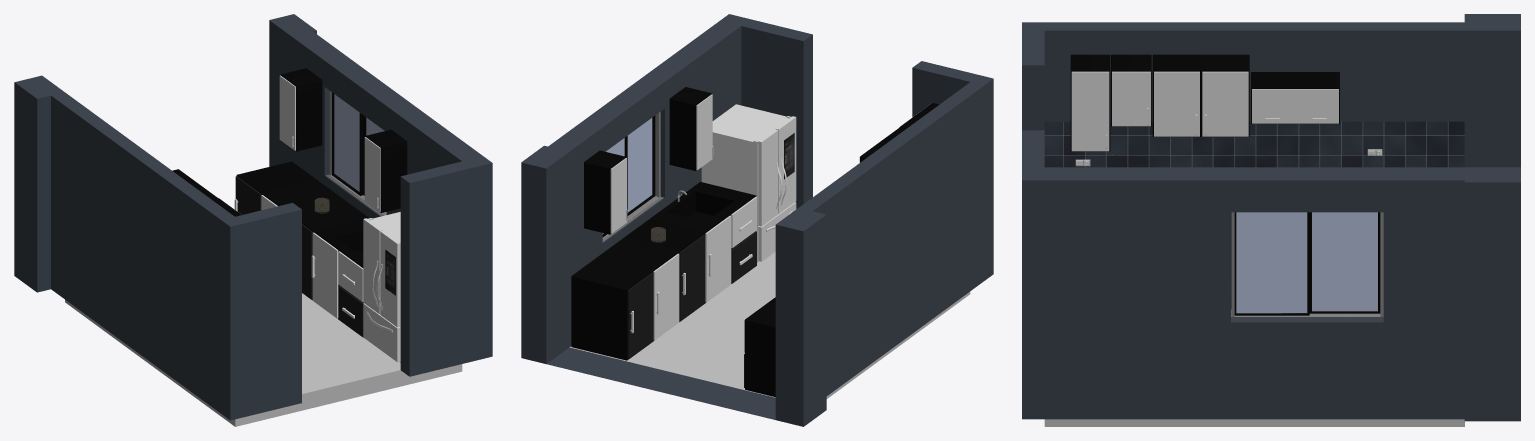
Rendered from Kitchen.fbx.
3 renders of one model, left to right at view 1: azimuth 30°, elevation 25°; view 2: azimuth 150°, elevation 25°; view 3: azimuth 270°, elevation 25°, orthographic. The views are drawn at different scales.
Parts seen in each view (by area): view 1: walls, AA KIRCHEN SLAB, kitchen furniture, AA FRIDGE, kitchen furniture.001, Window_element_004, kitchen furniture.007, kitchen furniture.006; view 2: walls, kitchen furniture, AA KIRCHEN SLAB, AA FRIDGE, kitchen furniture.001, Window_element_004, kitchen furniture.006, kitchen furniture.007, kitchen furniture.010; view 3: walls, Window_element_004, kitchen furniture.004, kitchen furniture.009, kitchen furniture.008, AA KIRCHEN SLAB, kitchen furniture.005.
Boxes of the visible parts, x1,y1,x2,y2 form: walls: [14, 14, 492, 420]; AA KIRCHEN SLAB: [65, 293, 462, 426]; kitchen furniture: [234, 161, 368, 299]; AA FRIDGE: [363, 212, 400, 362]; kitchen furniture.001: [311, 218, 369, 337]; Window_element_004: [326, 90, 386, 216]; kitchen furniture.007: [279, 68, 322, 151]; kitchen furniture.006: [364, 129, 407, 212]; walls: [521, 14, 993, 426]; kitchen furniture: [571, 220, 705, 360]; AA KIRCHEN SLAB: [569, 252, 970, 398]; AA FRIDGE: [701, 104, 796, 262]; kitchen furniture.001: [649, 182, 756, 302]; Window_element_004: [602, 111, 663, 241]; kitchen furniture.006: [669, 87, 713, 170]; kitchen furniture.007: [584, 150, 627, 234]; kitchen furniture.010: [744, 297, 775, 396]; walls: [1022, 14, 1520, 421]; Window_element_004: [1231, 212, 1383, 317]; kitchen furniture.004: [1152, 54, 1249, 136]; kitchen furniture.009: [1251, 72, 1339, 123]; kitchen furniture.008: [1070, 54, 1110, 151]; AA KIRCHEN SLAB: [1044, 419, 1464, 426]; kitchen furniture.005: [1111, 54, 1151, 126].
Size of the model in its own units: 279 by 200 by 349.
